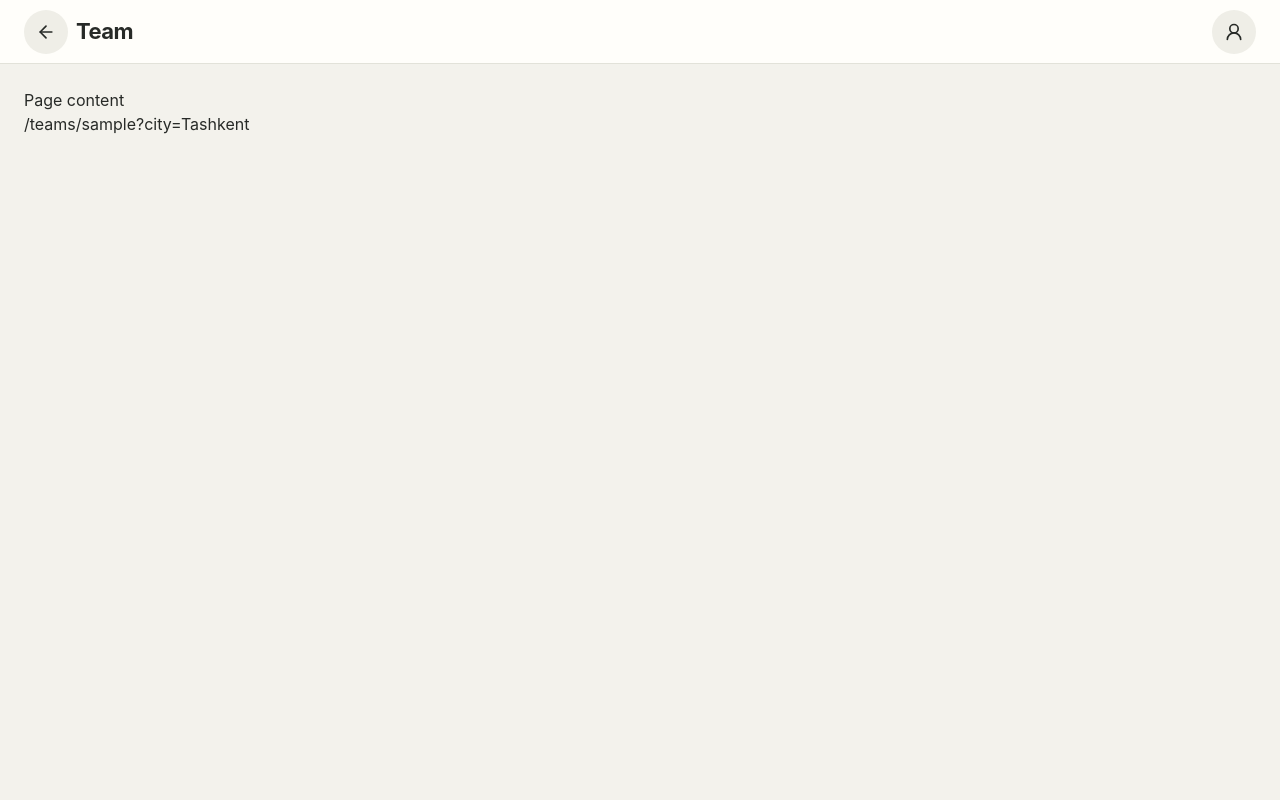
Test: responsive shell › offers a login that remembers the route and only supported account actions
The width and height of the screenshot is (1280, 800).
Step 1. Click the button named "Account" → (1234,32), box top-left (1212, 10), bottom-right (1256, 54)
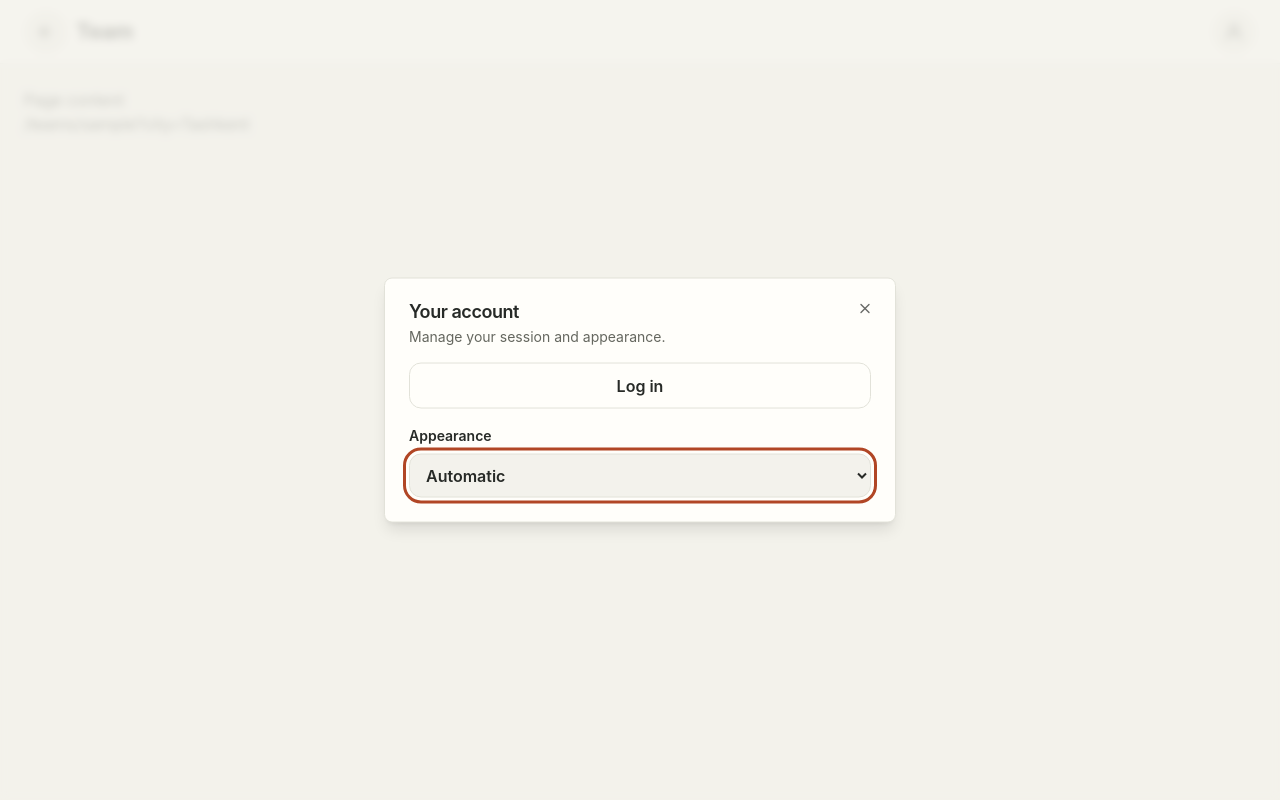
Step 2. Select "Dark" in the dropdown labelled "Appearance" → (640,476), box top-left (409, 454), bottom-right (871, 498)
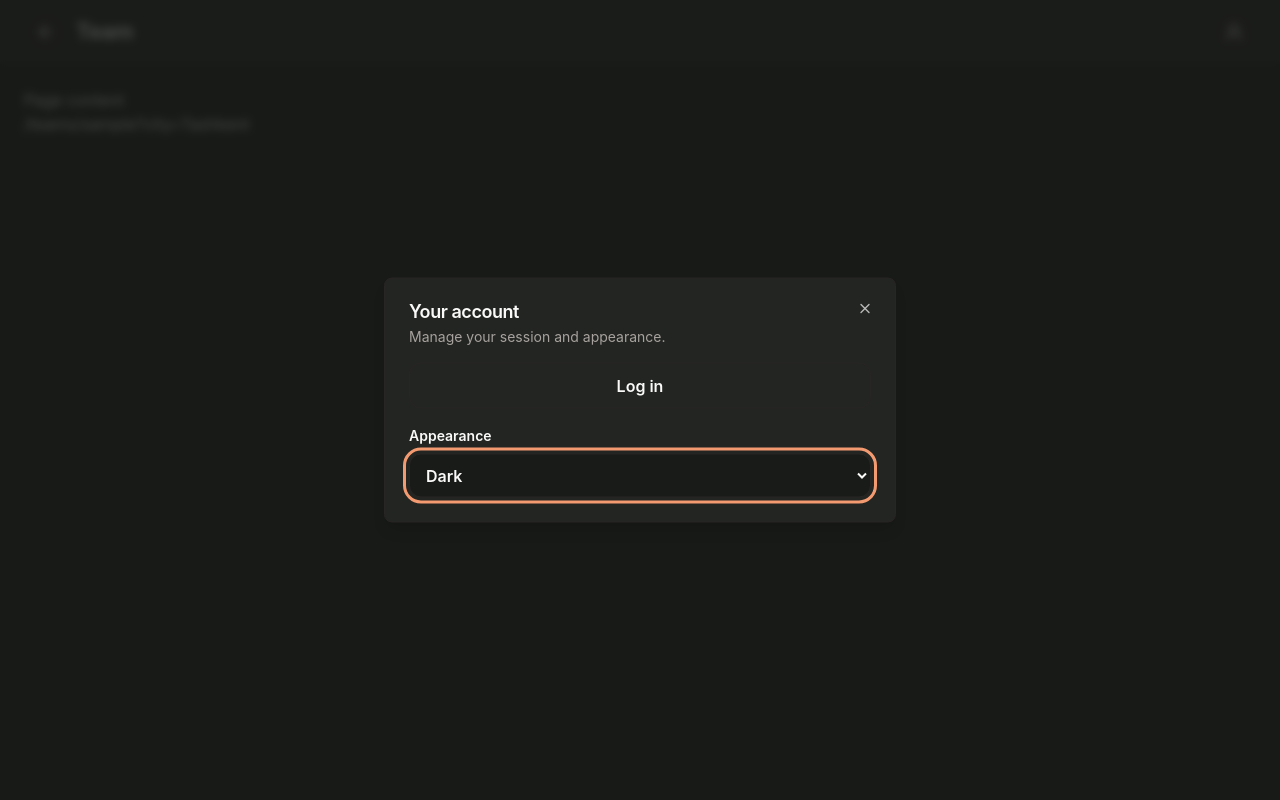
Step 3. Click the link "Log in" → (640,386), box top-left (409, 362), bottom-right (871, 408)
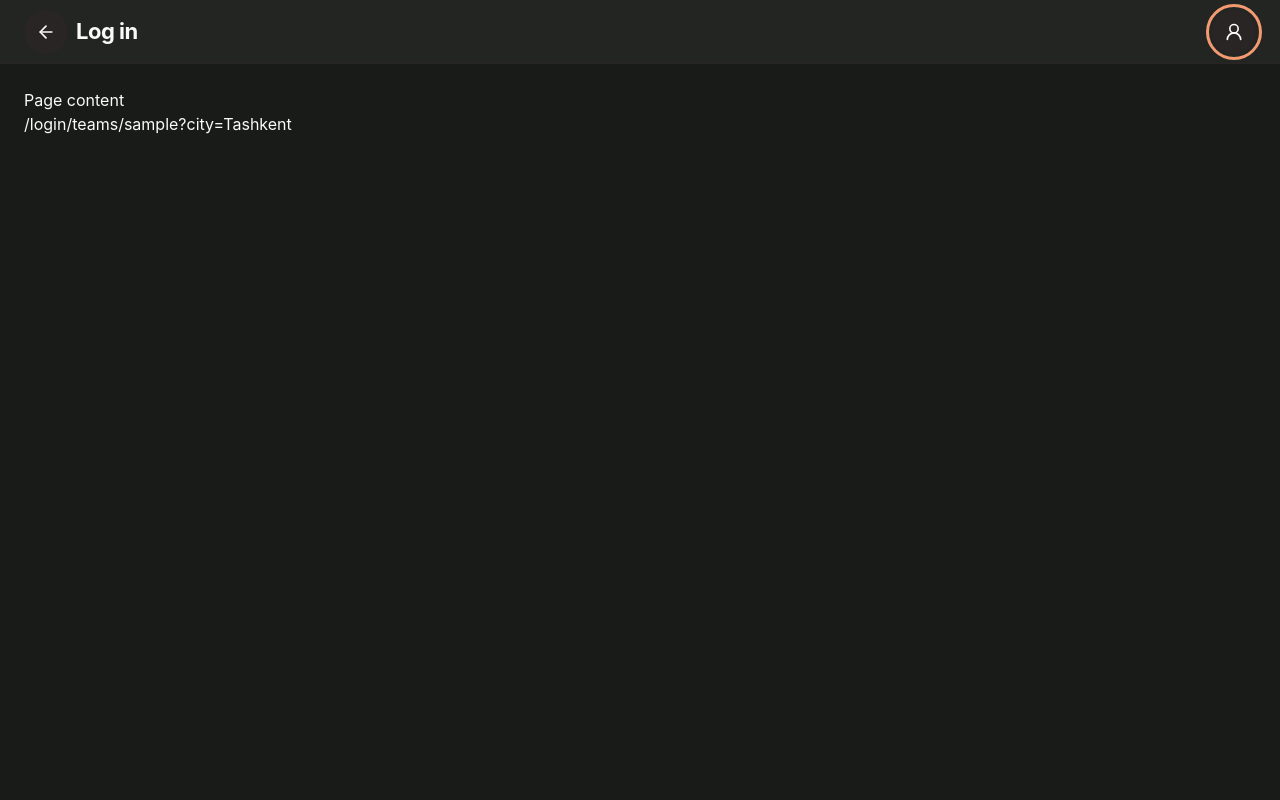
Expected: the text named "Return route" reads "/teams/sample?city=Tashkent", top-left (66, 114), bottom-right (292, 134)
Expected: the text "/login" is shown, top-left (24, 114), bottom-right (66, 134)
